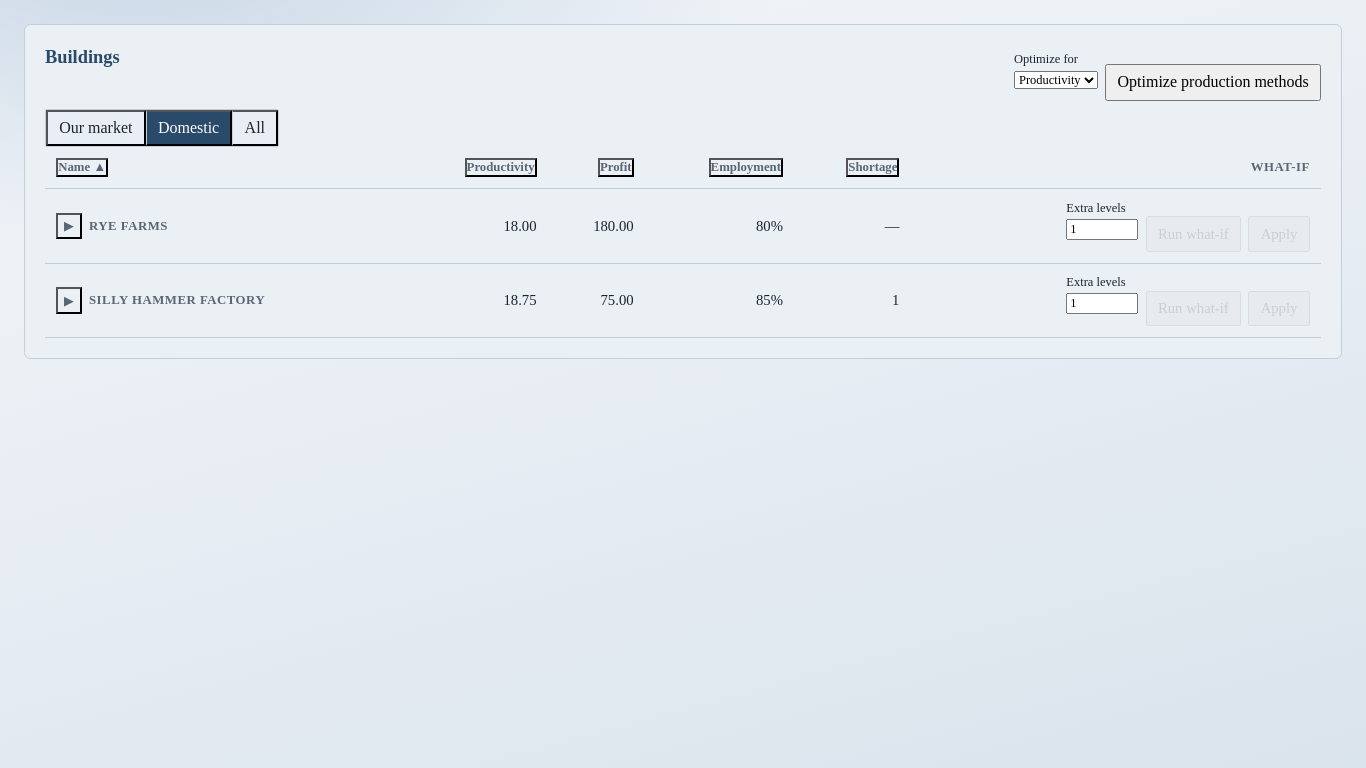
it: BuildingsPane › shows grouped optimizer changes from the mock API
Select "Income" in the dropdown named "Optimization axis": point(1056, 80) [1014,71,1098,89]
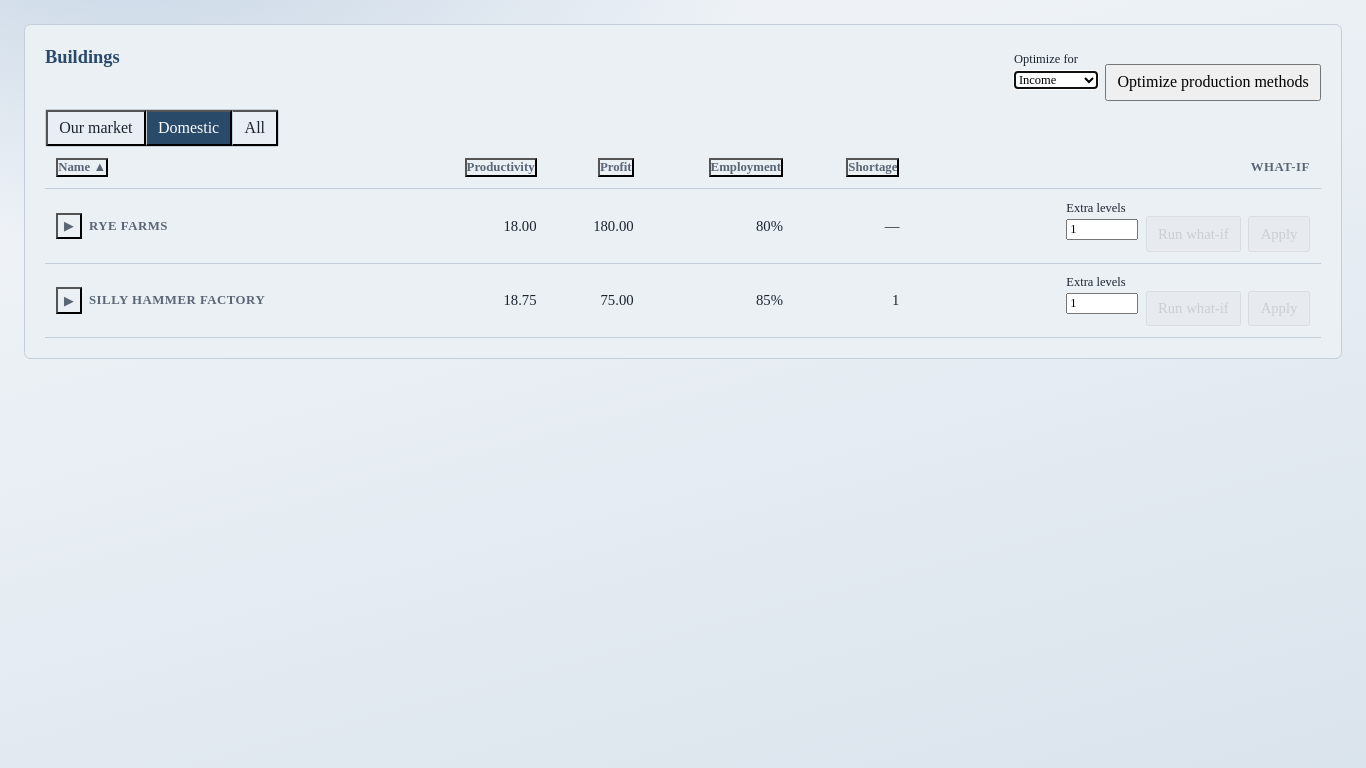
Click the button "Optimize production methods": point(1213, 82) [1105,64,1321,101]
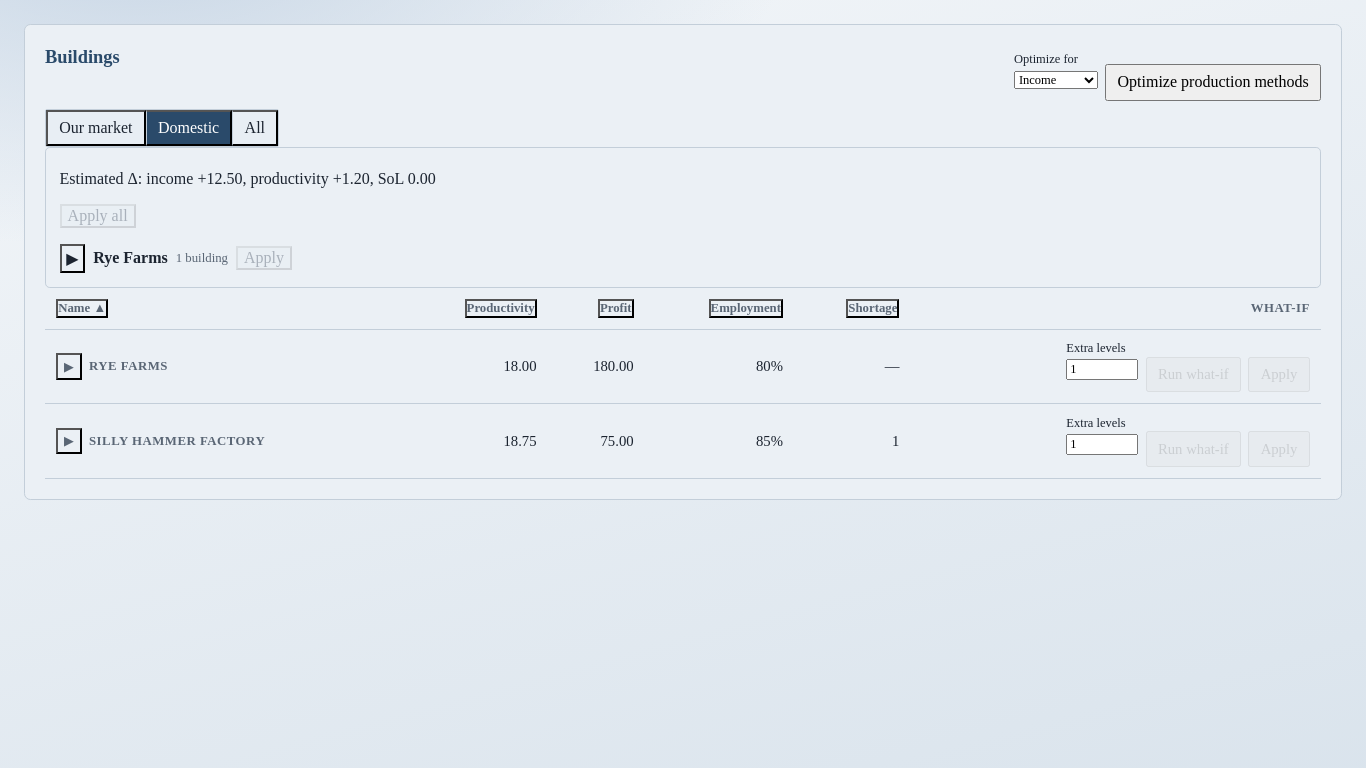
Expected: the text "Estimated Δ: income +12.50, productivity +1.20, SoL 0.00" is shown, [60,170,436,186]
Click the button named "Expand Rye Farms changes": point(72, 258) [60,244,85,273]
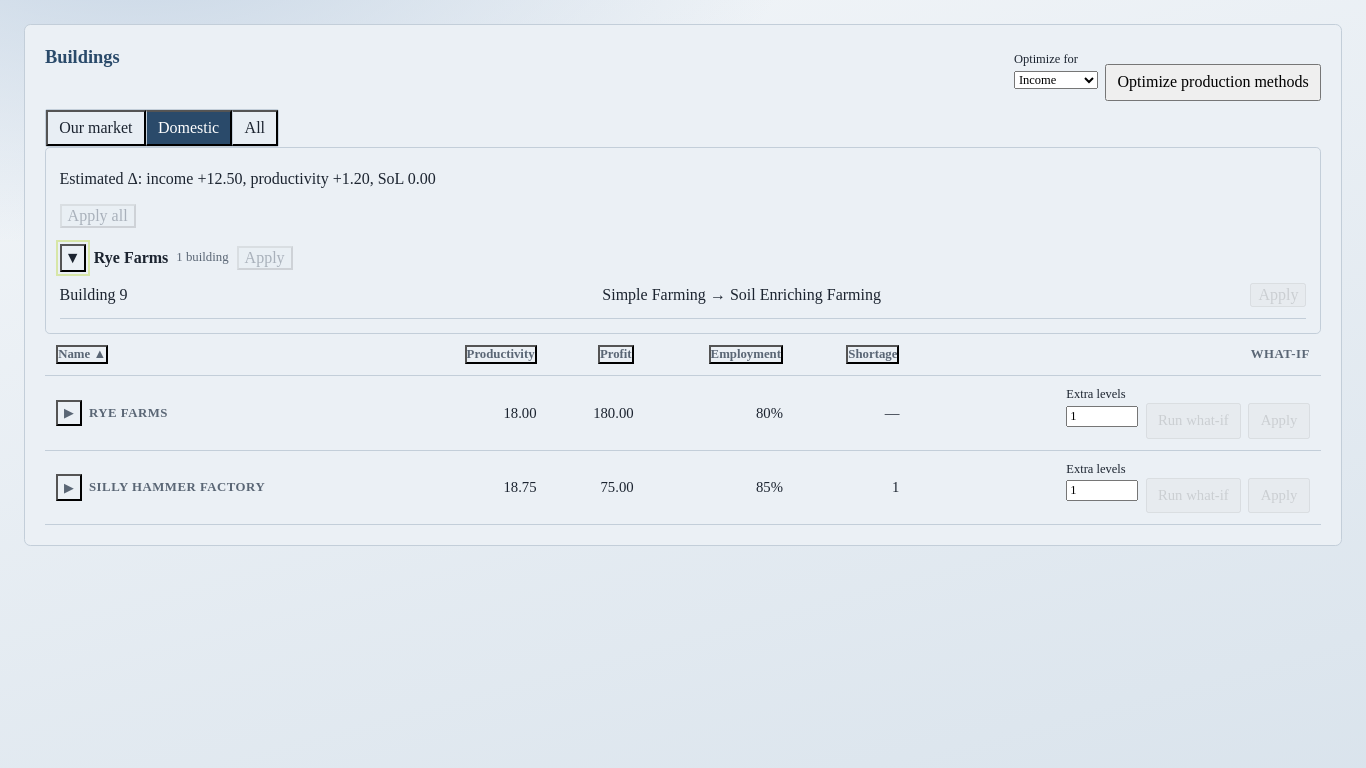
Expected: the 1st button "Apply" is disabled, [237,246,293,270]
Expected: the text "Simple Farming → Soil Enriching Farming" is shown, [602,286,881,303]
Expected: the button "Apply" in the row of "Simple Farming" is disabled, [1250,283,1306,307]
